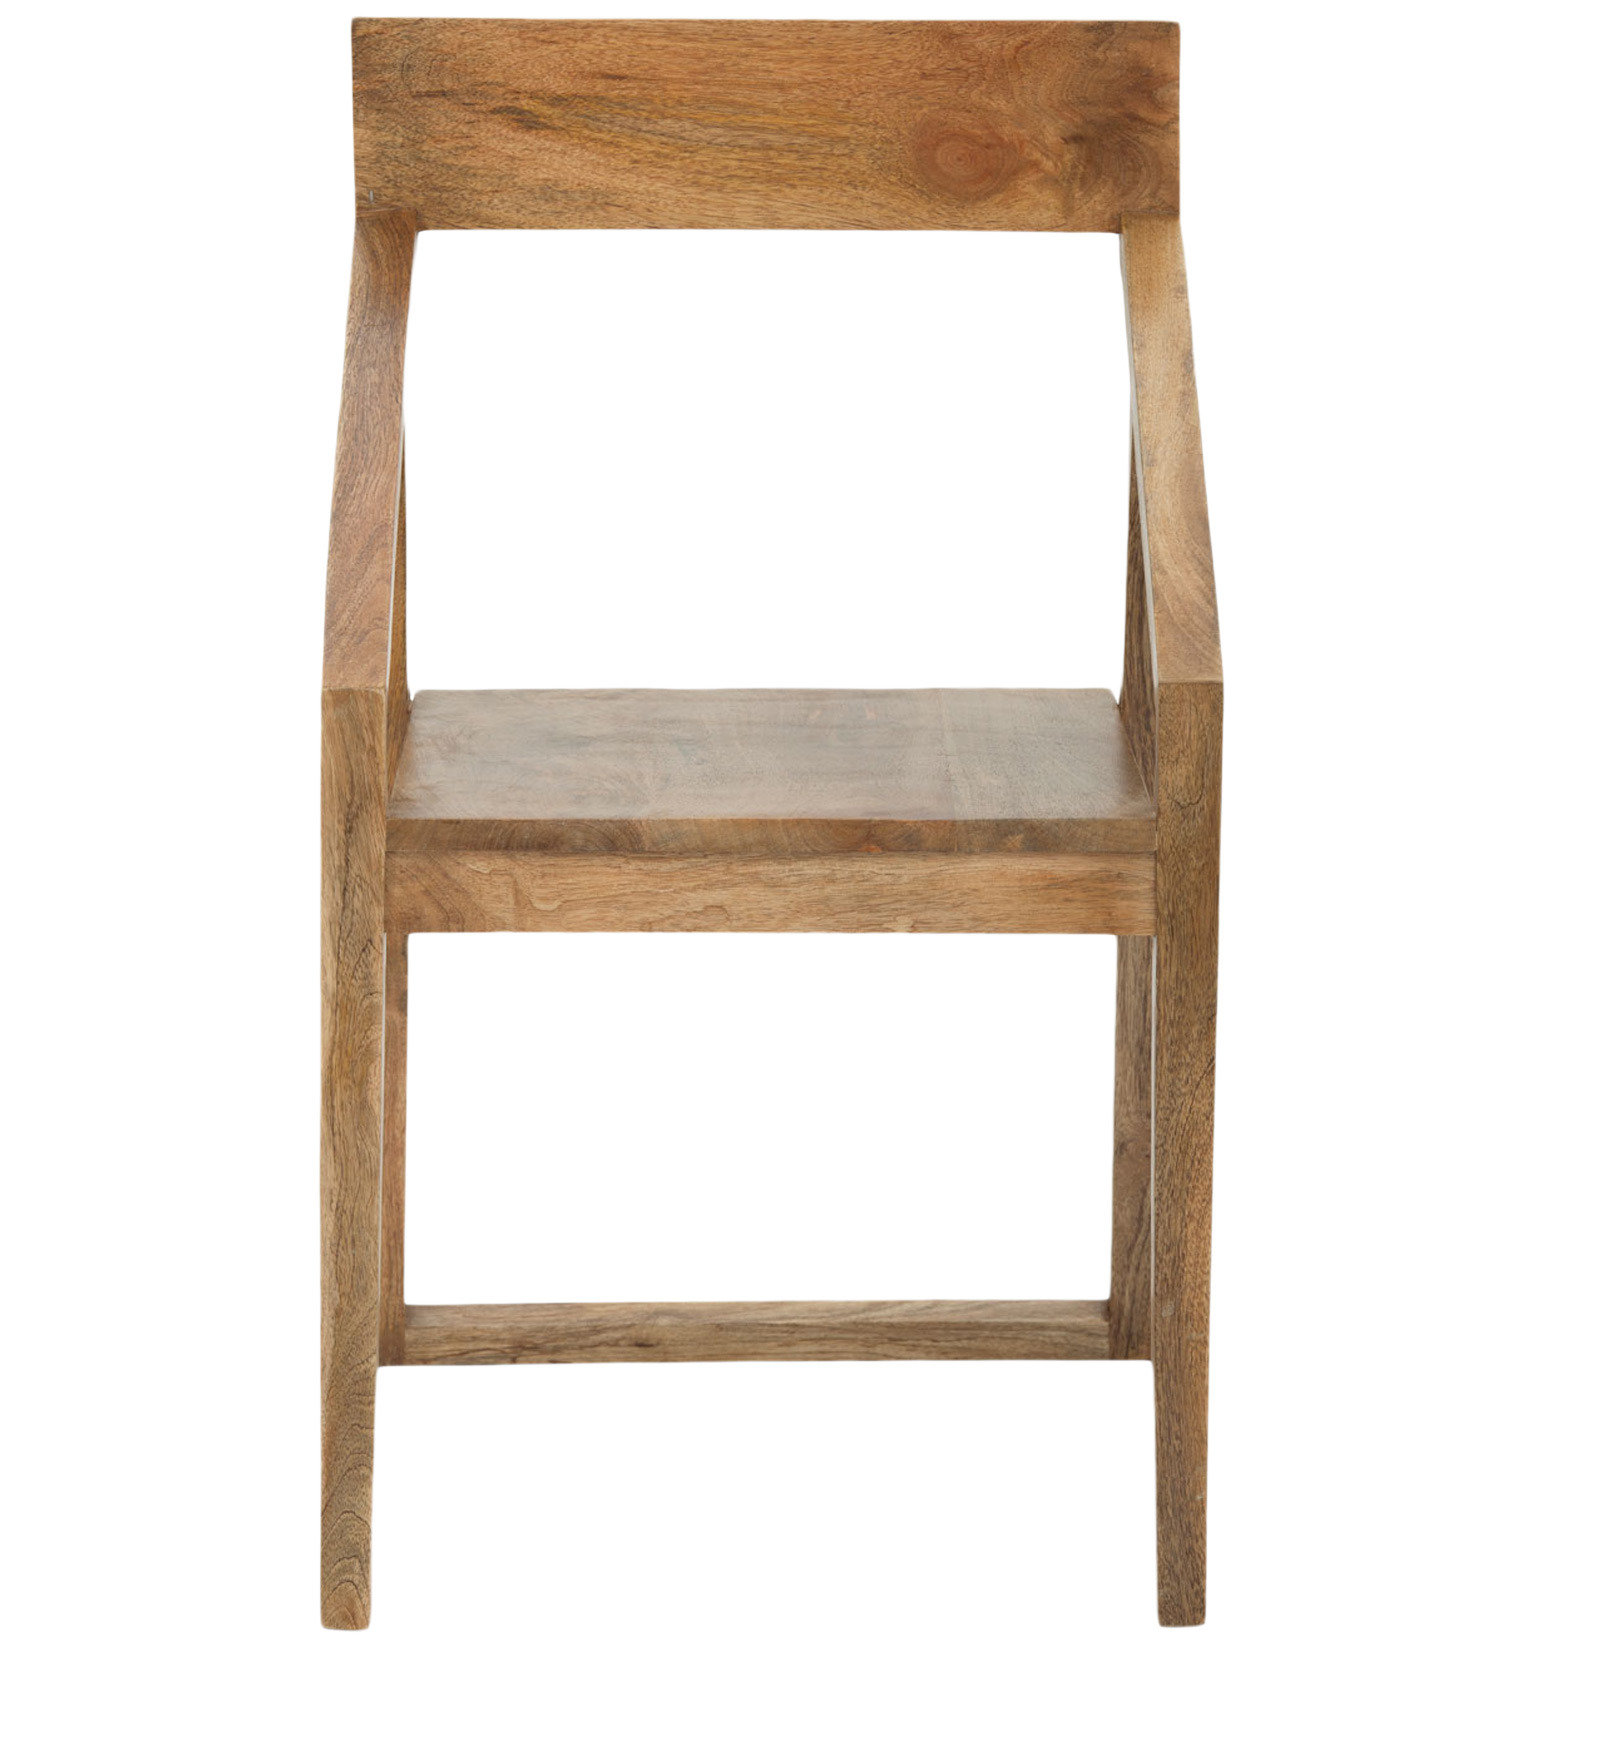Dulwich Solid Wood Arm Chair in Natural Finish by TheArmchair: (248, 34, 1241, 1660)
